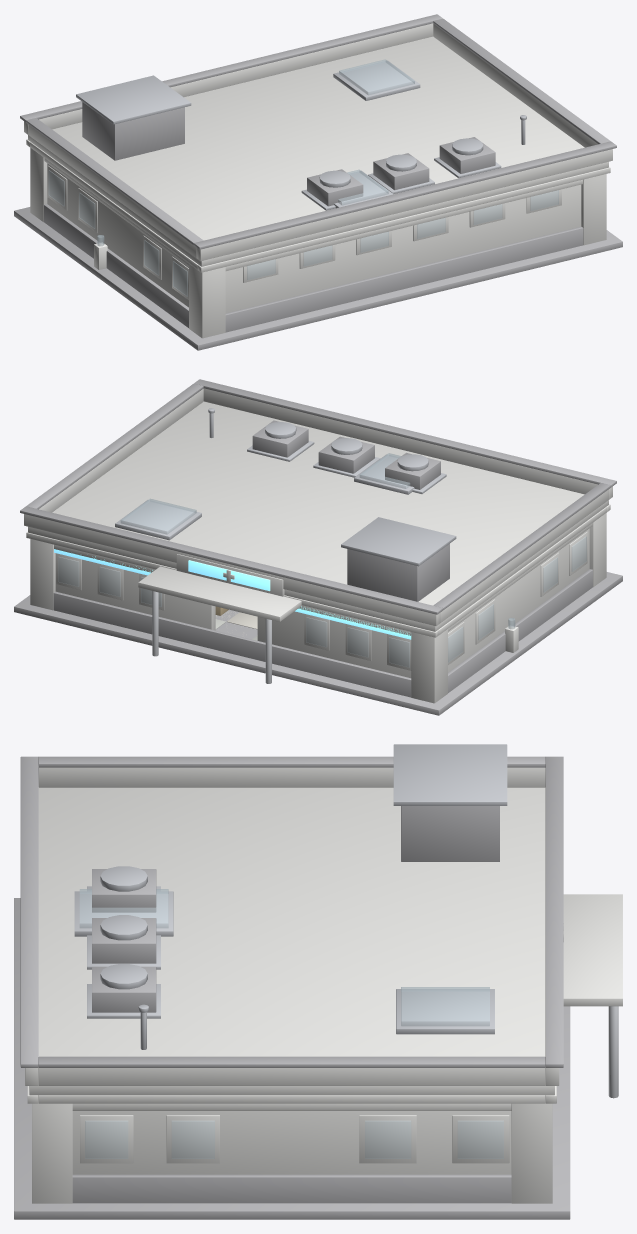
Rendered from th23_arztpraxis.glb.
The picture shows the model from 3 angles, top to bottom: view 1: azimuth 30°, elevation 25°; view 2: azimuth 150°, elevation 25°; view 3: azimuth 270°, elevation 25°; orthographic projection. The views are drawn at different scales.
Visible parts, largest first — view 1: Cube.043, Cube.040, Cube, Cube.048, Cube.060, Cube.061, Cube.315, Cube.064, Cube.041, Cube.316, Cube.065, Cube.050 (+28 smaller); view 2: Cube.043, Cube, Cube.049, Cube.060, Cube.061, Cube.109, Cube.315, Cube.065, Cube.041, Cube.064, Cube.316, Cube.038 (+37 smaller); view 3: Cube.043, Cube.042, Cube, Cube.051, Cube.063, Cube.062, Cube.316, Cube.109, Cube.067, Cube.065, Cube.064, Cube.315 (+25 smaller).
Boxes of the visible parts, x1,y1,x2,y2 form: Cube.043: (28,36,608,266); Cube.040: (225,184,581,313); Cube: (14,207,622,350); Cube.048: (225,226,583,332); Cube.060: (196,149,612,260); Cube.061: (24,23,433,134); Cube.315: (82,102,184,160); Cube.064: (193,141,616,249); Cube.041: (47,163,188,307); Cube.316: (76,75,191,124); Cube.065: (20,14,442,122); Cube.050: (44,204,188,327); Cube.043: (28,401,608,631); Cube: (14,572,622,715); Cube.049: (53,591,411,697); Cube.060: (203,388,612,499); Cube.061: (24,514,440,625); Cube.109: (138,566,301,621); Cube.315: (347,543,449,601); Cube.065: (20,506,443,614); Cube.041: (448,528,589,672); Cube.064: (194,379,616,487); Cube.316: (341,517,456,566); Cube.038: (55,553,215,630); Cube.043: (29,787,554,1095); Cube.042: (72,1111,511,1174); Cube: (14,898,570,1219); Cube.051: (72,1174,511,1203); Cube.063: (38,1068,545,1085); Cube.062: (38,767,545,787); Cube.316: (393,744,507,805); Cube.109: (563,894,622,1006); Cube.067: (38,1056,545,1067); Cube.065: (545,756,563,1067); Cube.064: (20,756,38,1067); Cube.315: (401,806,499,861).
Bounding box in the file's own units: 24 × 6.86 × 19.7.
